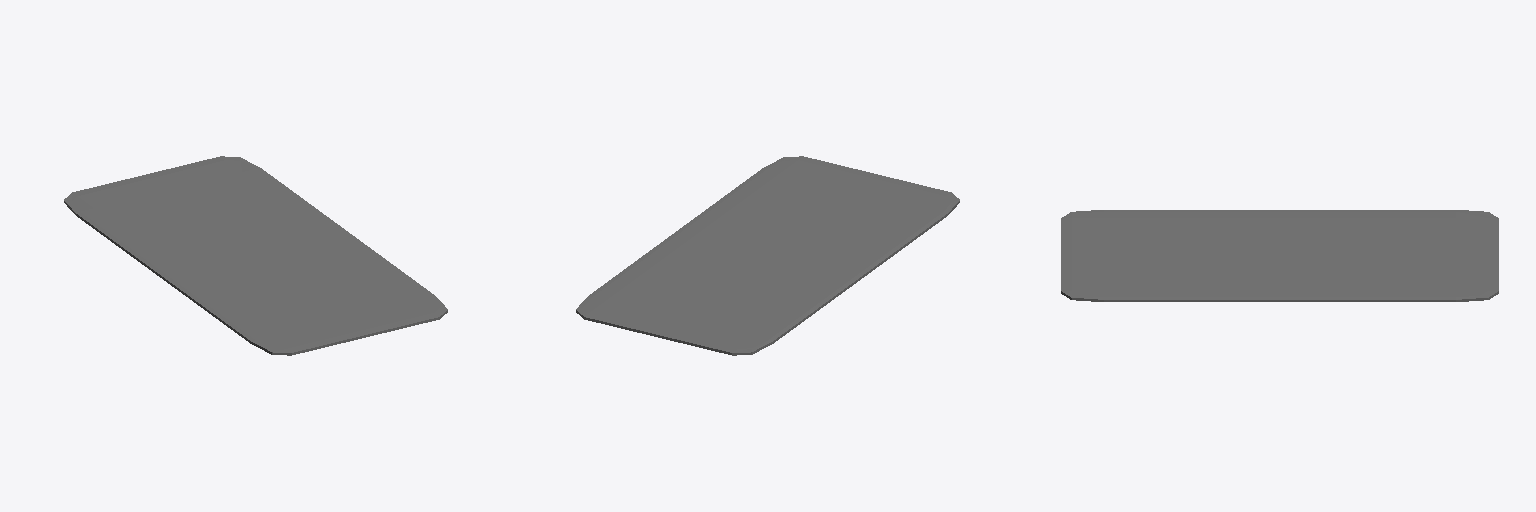
Rendered from rug.obj.
The picture shows the model from 3 angles: view 1: azimuth 30°, elevation 25°; view 2: azimuth 150°, elevation 25°; view 3: azimuth 270°, elevation 25°; orthographic projection.
Parts seen in each view (by area): view 1: rug; view 2: rug; view 3: rug.
Part boxes in pixels (x1,y1,x2,y2): rug: (64, 156, 447, 355); rug: (576, 156, 959, 355); rug: (1061, 210, 1498, 301).
Size of the model in its own units: 8.8 by 0.1443 by 18.06.